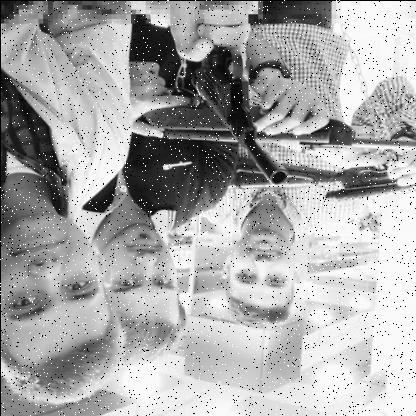rifle: (183, 0, 290, 186), (137, 98, 416, 152), (222, 153, 416, 204)
